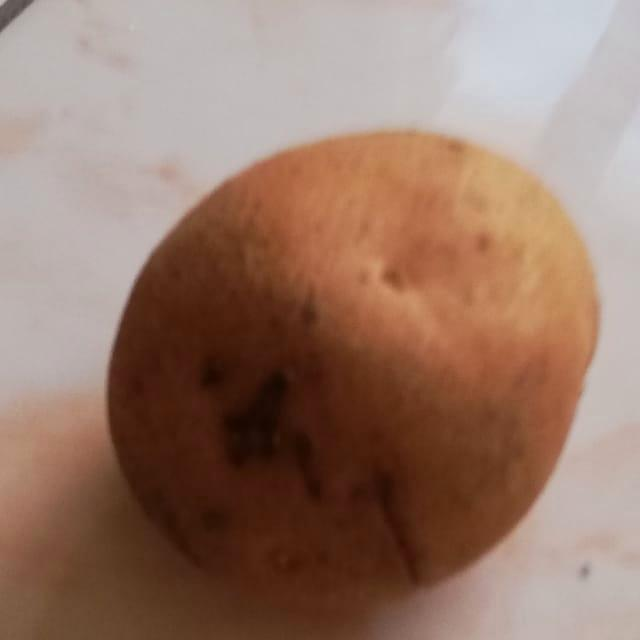potato: (92, 86, 625, 636)
